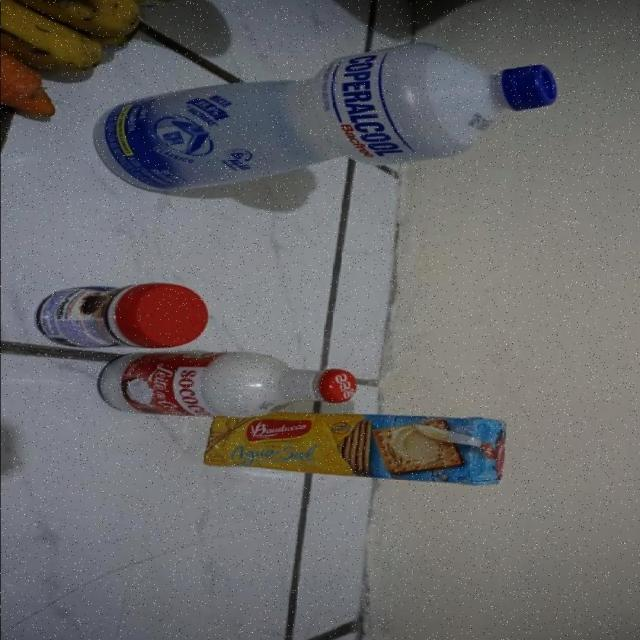AlcoholBottle: (109, 48, 556, 199)
Banana: (0, 0, 140, 40)
Carrot: (0, 47, 62, 124)
CoconutMilk: (97, 356, 355, 416)
Cracker: (203, 420, 509, 486)
Yeast: (43, 280, 211, 349)
